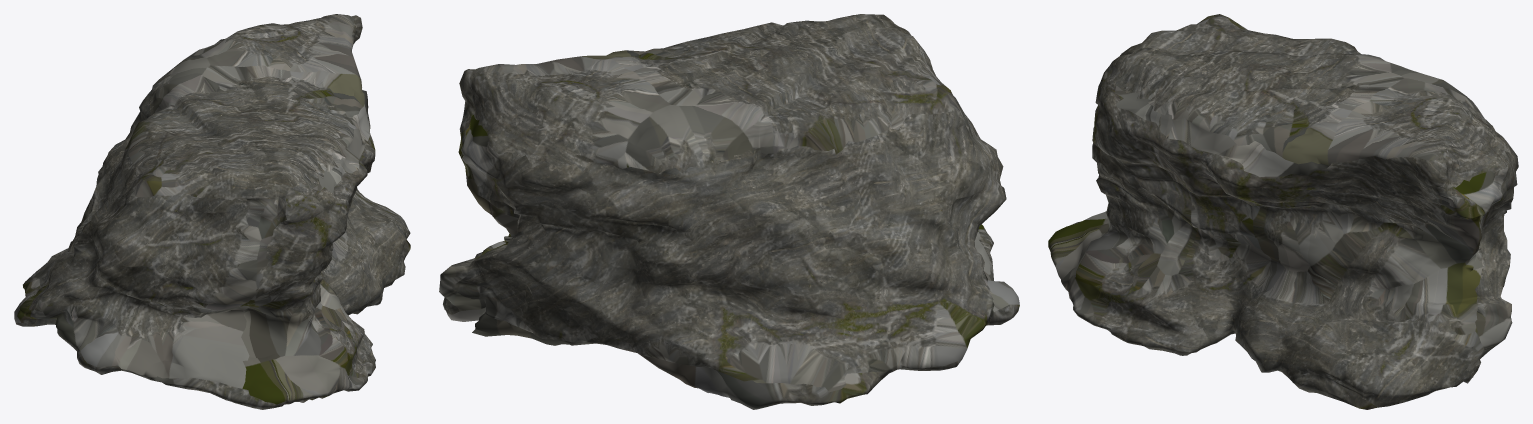
Rendered from SM_Rock_F.fbx.
The picture shows the model from 3 angles, left to right: view 1: azimuth 30°, elevation 25°; view 2: azimuth 150°, elevation 25°; view 3: azimuth 270°, elevation 25°; orthographic projection. The views are drawn at different scales.
Parts seen in each view (by area): view 1: SM_Rock_F_LOD0; view 2: SM_Rock_F_LOD0; view 3: SM_Rock_F_LOD0.
Part boxes in pixels (left/top/right/bottom): SM_Rock_F_LOD0: left=14, top=14, right=410, bottom=409; SM_Rock_F_LOD0: left=439, top=14, right=1019, bottom=409; SM_Rock_F_LOD0: left=1048, top=14, right=1518, bottom=409.
Bounding box in the file's own units: 10785 × 9682 × 5809.
